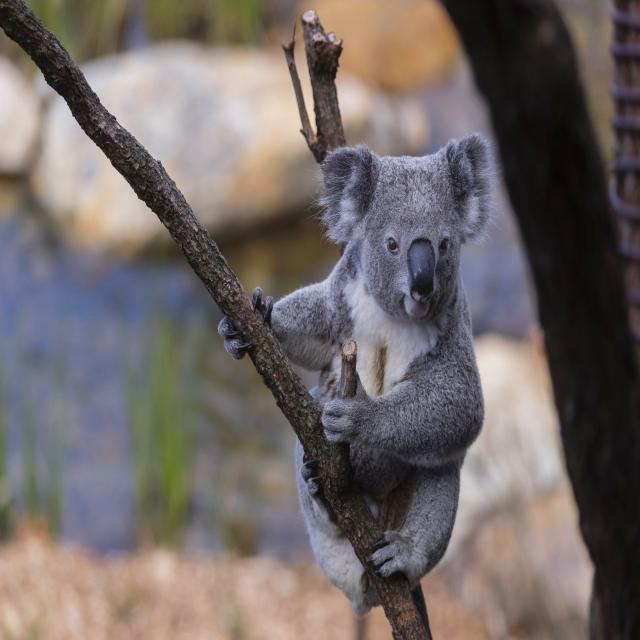koala: (251, 133, 496, 614)
